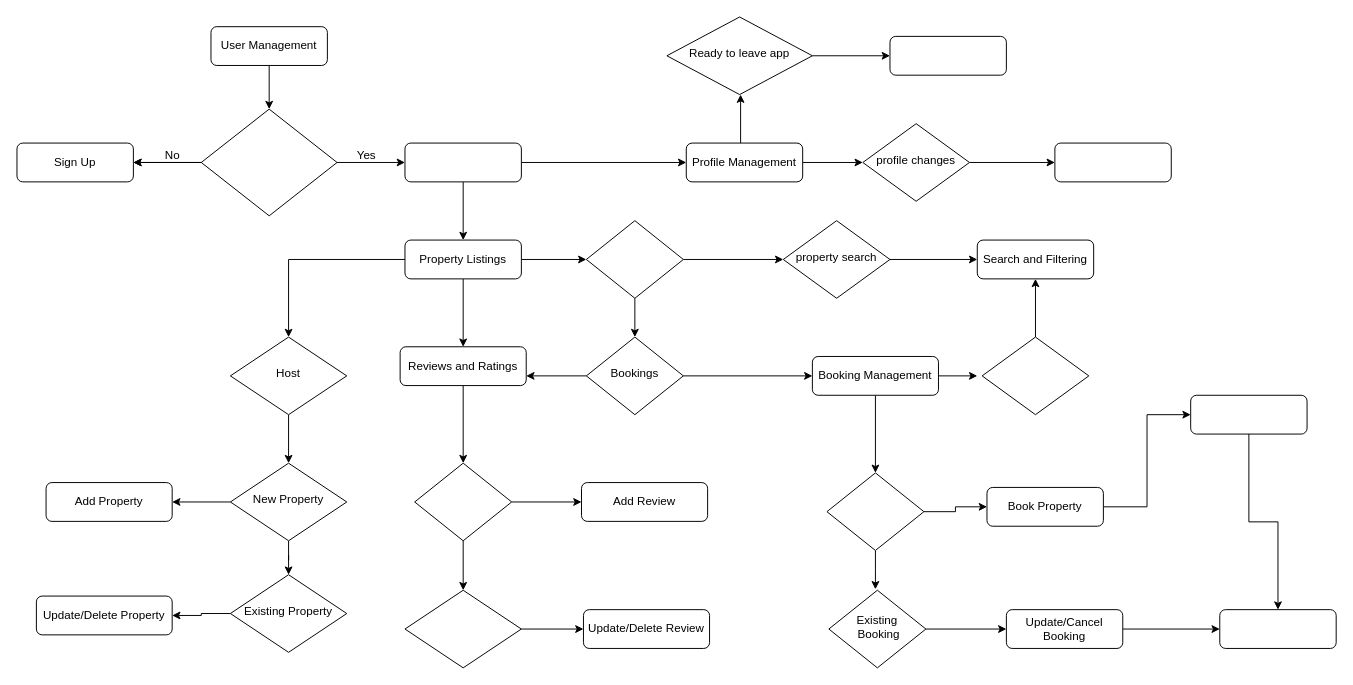
This 1353x685 diagram has some shape labels left out. The shapes that lost their labels are listed below. From the top down, each one's centre as x and y in pixels, then its label:
At (x=947, y=55): "Sign out".
At (x=268, y=162): "Have an already exisitng account?".
At (x=462, y=162): "Sign In".
At (x=1112, y=162): "Update Profile".
At (x=634, y=259): "Guest".
At (x=1035, y=375): "Booking Search".
At (x=1248, y=414): "Payment".
At (x=463, y=501): "New Review".
At (x=875, y=511): "New Booking".
At (x=462, y=628): "Existing Review".
At (x=1277, y=628): "Notification".
